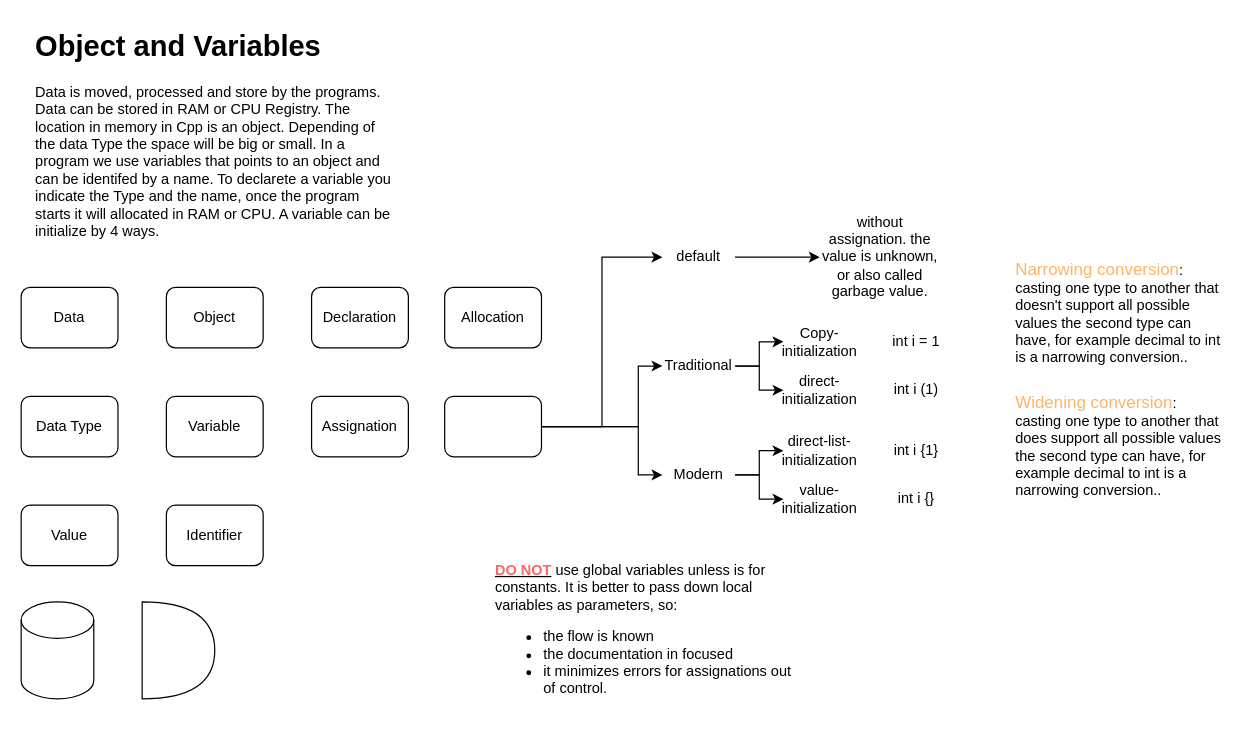
Some shapes in this 1252 by 743 pixel diagram are drawn without their labels. The shapes that lost their labels are listed below. From the top down, each one's centre as x and y in pixels, then its label:
At pixel 492 426: "Inicialization".
At pixel 57 650: "RAM".
At pixel 178 650: "CPU Registry".
